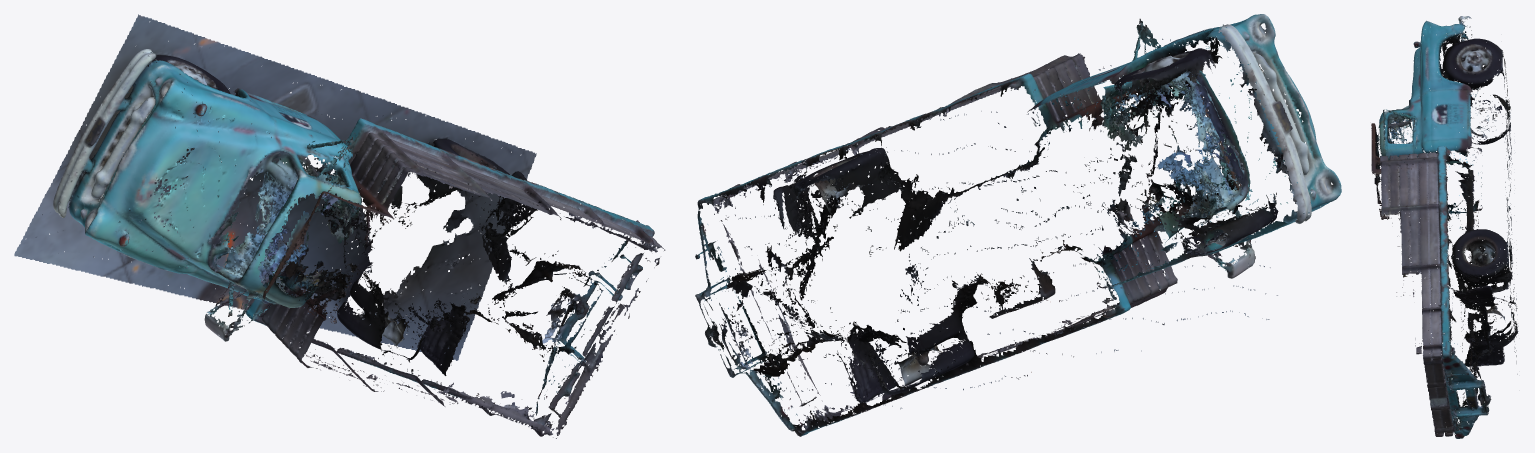
The model's file is truck_simplified_025_compressed.glb.
3 views of the same model, side by side, from view 1: azimuth 30°, elevation 25°; view 2: azimuth 150°, elevation 25°; view 3: azimuth 270°, elevation 25° (orthographic). The views are drawn at different scales.
Parts seen in each view (by area): view 1: truck_ours_simplified_025; view 2: truck_ours_simplified_025; view 3: truck_ours_simplified_025.
Boxes of the visible parts, left/top/right/bottom form: truck_ours_simplified_025: left=14, top=14, right=665, bottom=438; truck_ours_simplified_025: left=695, top=14, right=1341, bottom=436; truck_ours_simplified_025: left=1371, top=16, right=1518, bottom=438.
Size of the model in its own units: 5.34 by 4.18 by 1.84.
